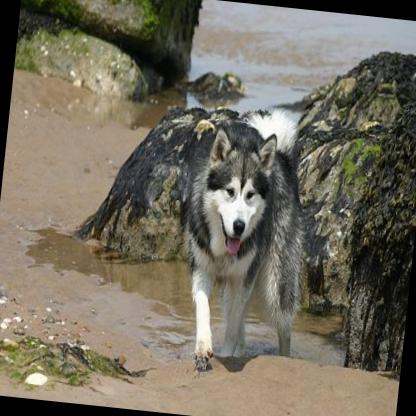malamute: (160, 98, 328, 386)
